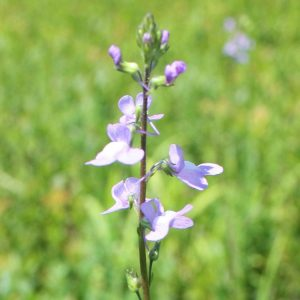violet: (158, 149, 223, 198), (92, 119, 145, 175), (141, 202, 196, 249), (115, 96, 169, 132), (102, 179, 143, 214)
